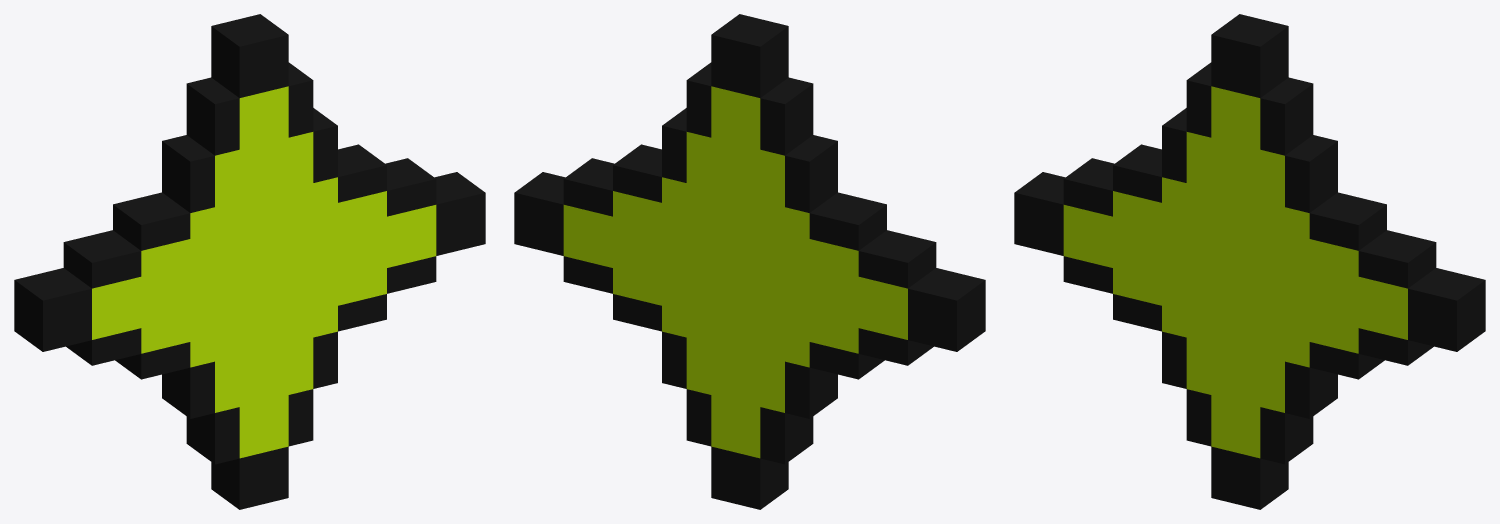
Rendered from particle1.obj.
The picture shows the model from 3 angles, left to right: view 1: azimuth 30°, elevation 25°; view 2: azimuth 150°, elevation 25°; view 3: azimuth 330°, elevation 25°; orthographic projection.
Size of the model in its own units: 18 by 18 by 2.
Materials: 1 (1 with a texture image).
